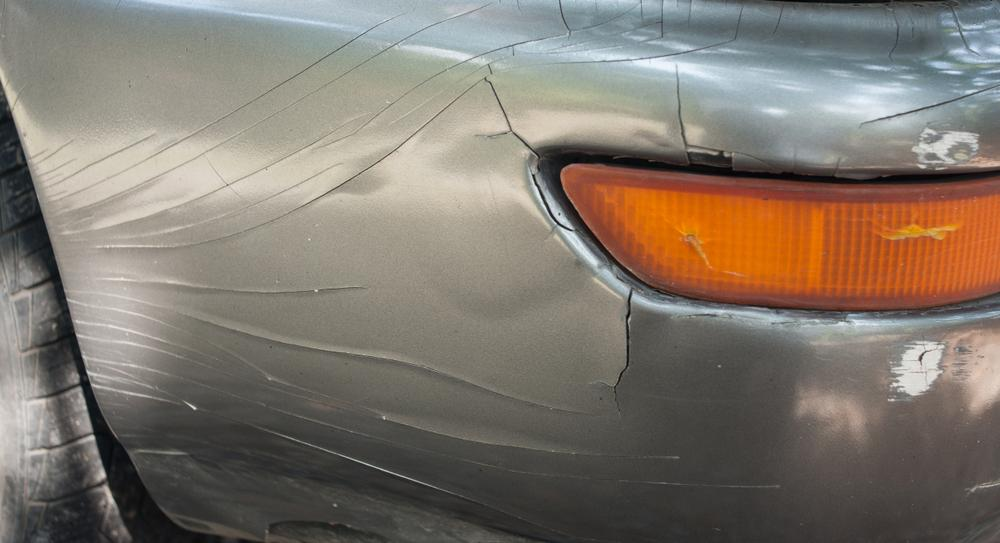crack: (611, 284, 636, 417), (524, 171, 575, 235)
scratch: (52, 32, 504, 532), (883, 343, 980, 408), (908, 119, 988, 167)
